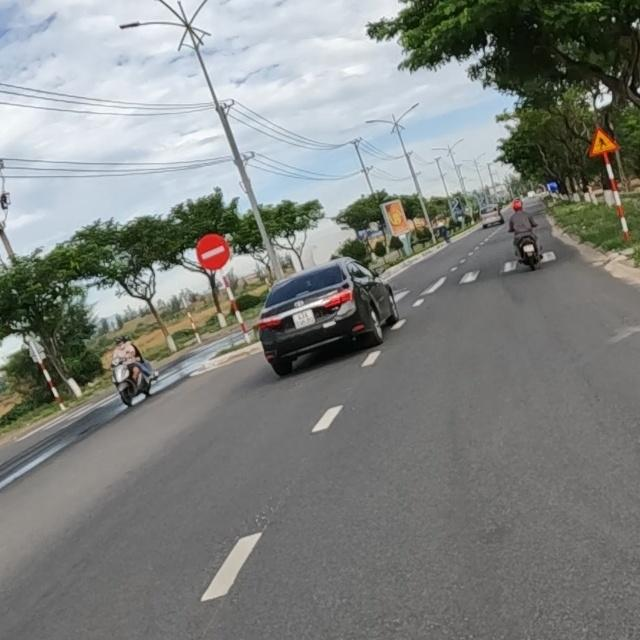license-plate: (291, 308, 316, 329)
